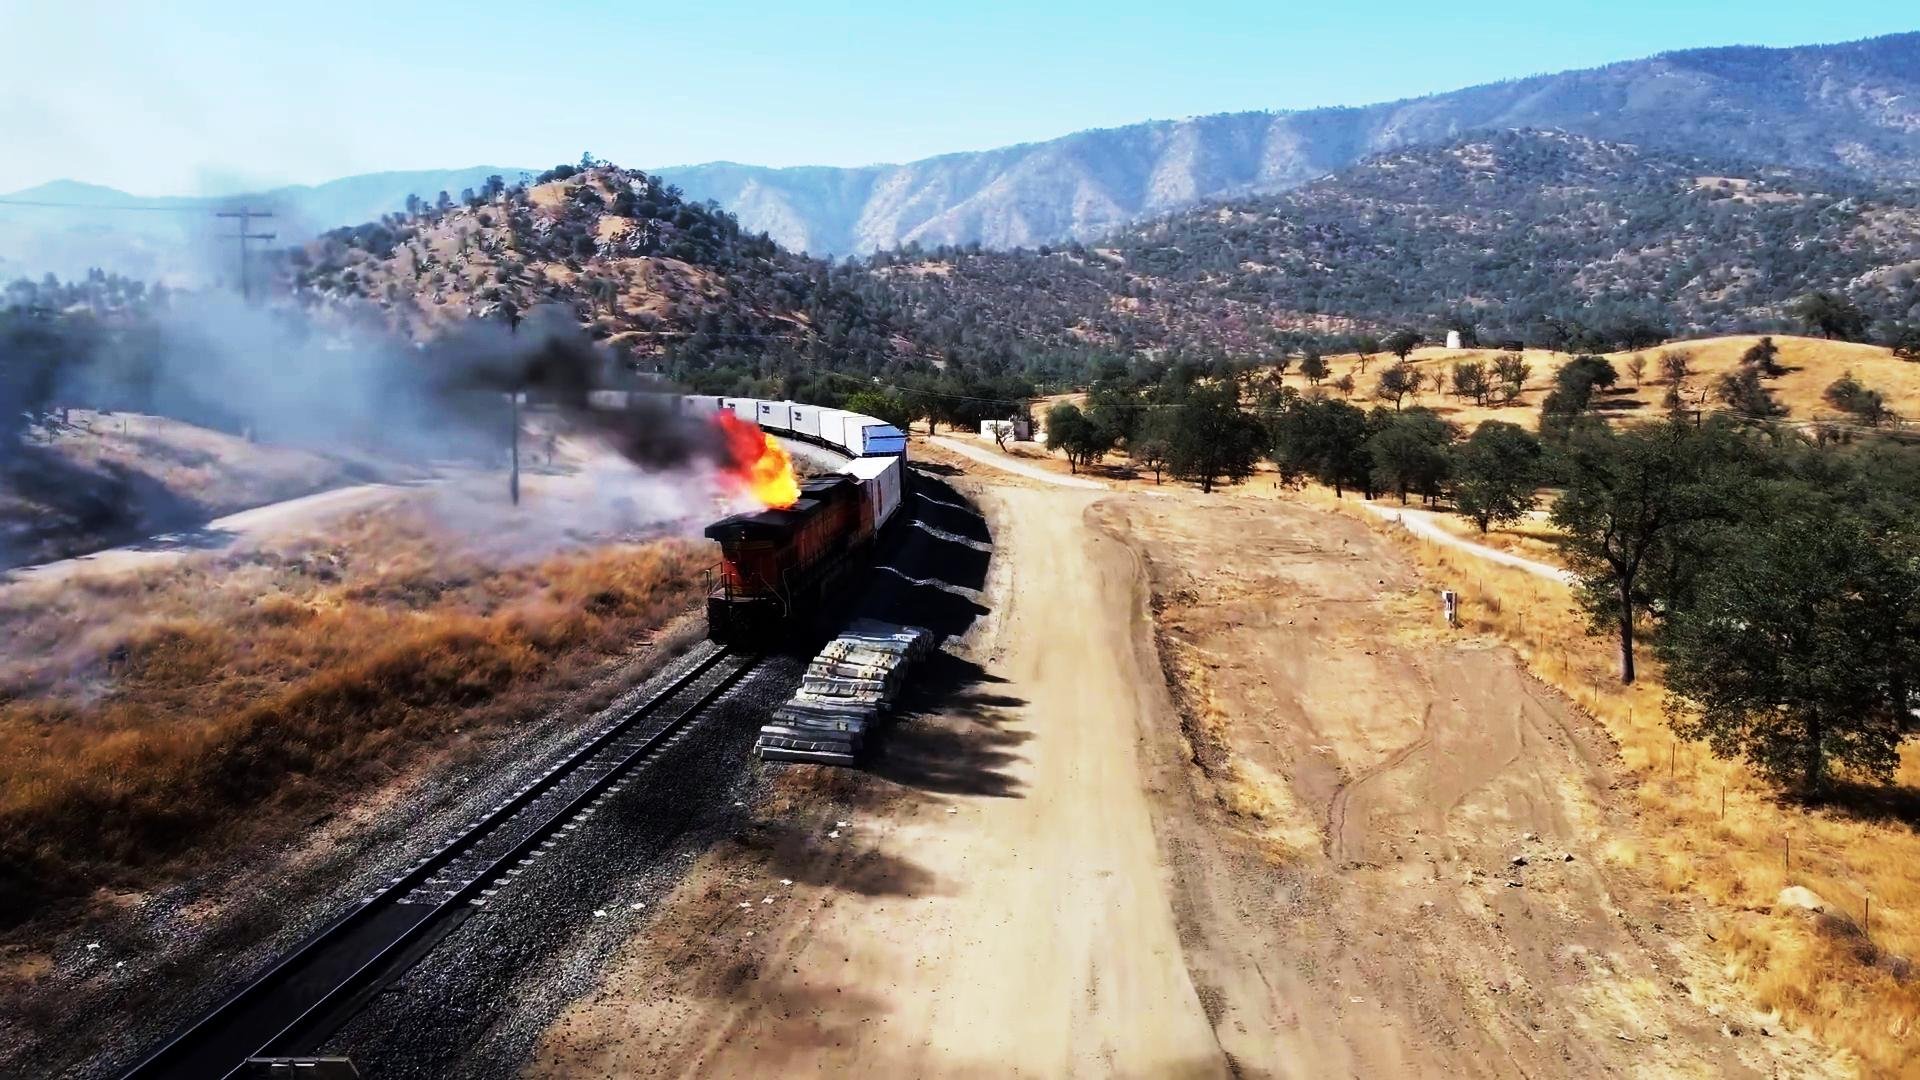fire: (716, 410, 811, 501)
smoke: (518, 334, 687, 492)
